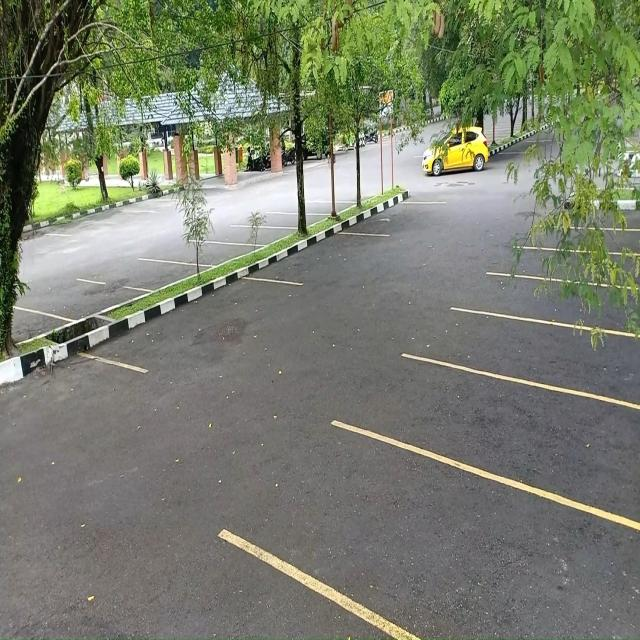empty: (309, 471, 618, 640), (456, 384, 640, 500), (141, 277, 287, 373), (486, 319, 640, 393), (284, 233, 378, 285), (31, 281, 126, 318), (119, 259, 190, 292), (176, 240, 248, 267), (376, 201, 422, 236), (213, 226, 295, 245)
